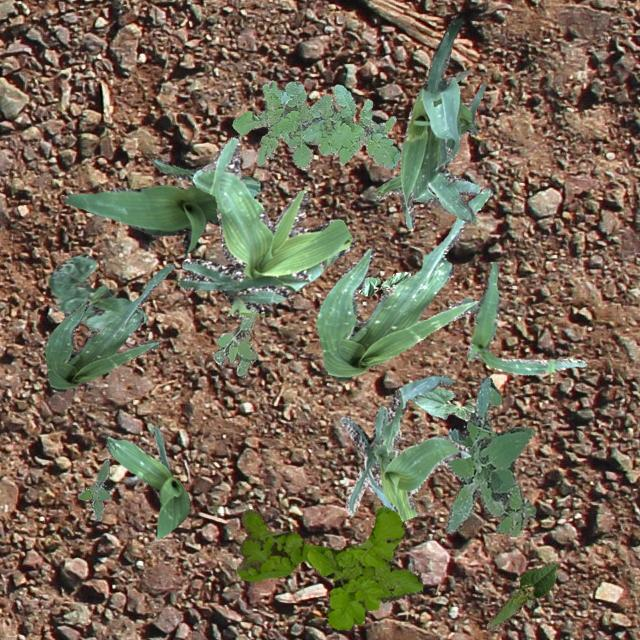crop: (316, 186, 492, 380), (178, 136, 354, 316), (374, 12, 478, 228), (64, 158, 262, 256), (338, 374, 469, 520), (44, 262, 174, 391), (466, 260, 586, 374), (104, 423, 190, 538), (48, 254, 146, 332), (486, 560, 558, 630), (408, 386, 472, 419), (454, 68, 484, 134), (358, 270, 409, 294)
weed: (236, 506, 422, 628), (230, 80, 398, 168), (444, 376, 534, 536), (212, 306, 258, 376), (76, 458, 110, 520)
